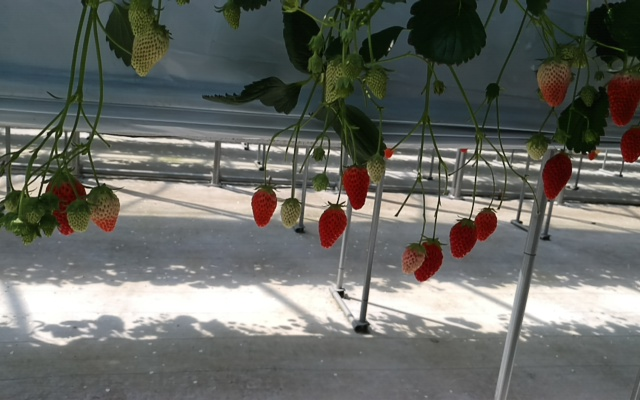GreenStrawberry: (127, 25, 171, 79), (534, 55, 574, 111), (88, 184, 125, 234), (324, 54, 359, 104), (126, 1, 158, 40), (363, 65, 391, 101), (67, 200, 94, 235), (400, 242, 425, 275), (365, 152, 388, 186), (1, 189, 25, 220), (524, 133, 550, 161), (280, 197, 300, 229), (21, 198, 43, 223)
MatureStrawberry: (41, 170, 87, 237), (603, 70, 640, 127), (542, 150, 573, 202), (317, 202, 349, 251), (409, 237, 443, 282), (340, 163, 371, 211), (449, 216, 479, 261), (250, 186, 281, 227), (617, 123, 640, 165), (473, 207, 498, 242)
